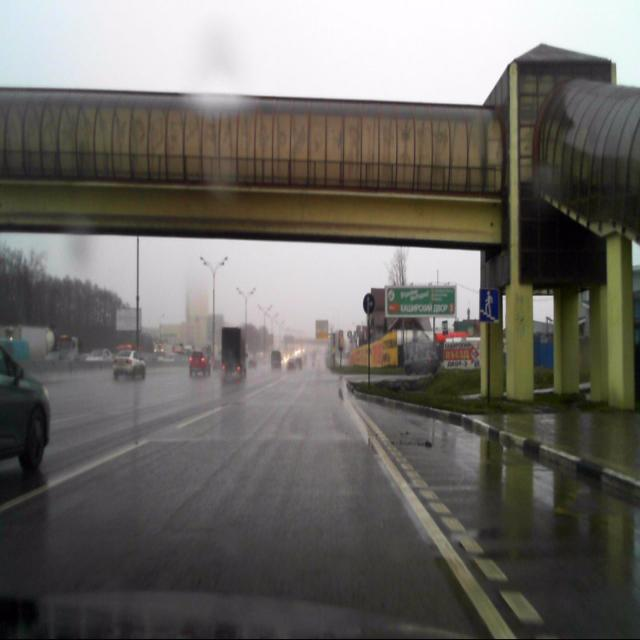road sign: (480, 289, 498, 323)
